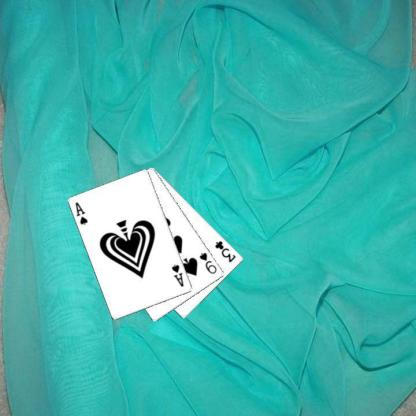3C: (212, 238, 237, 264)
9S: (197, 250, 218, 275)
AS: (73, 199, 89, 226), (169, 262, 185, 288)
